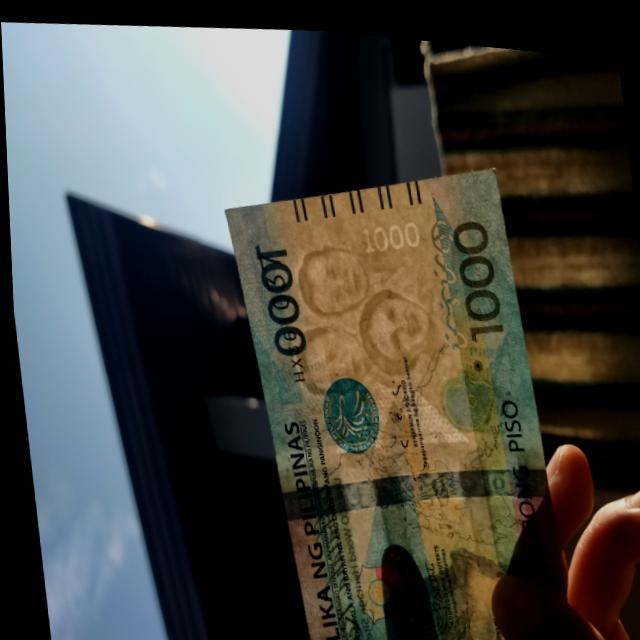security_thread: (277, 457, 542, 520)
see_through_mark: (420, 203, 467, 348)
value_watermark: (344, 205, 420, 256)
watermark: (282, 227, 440, 405)
